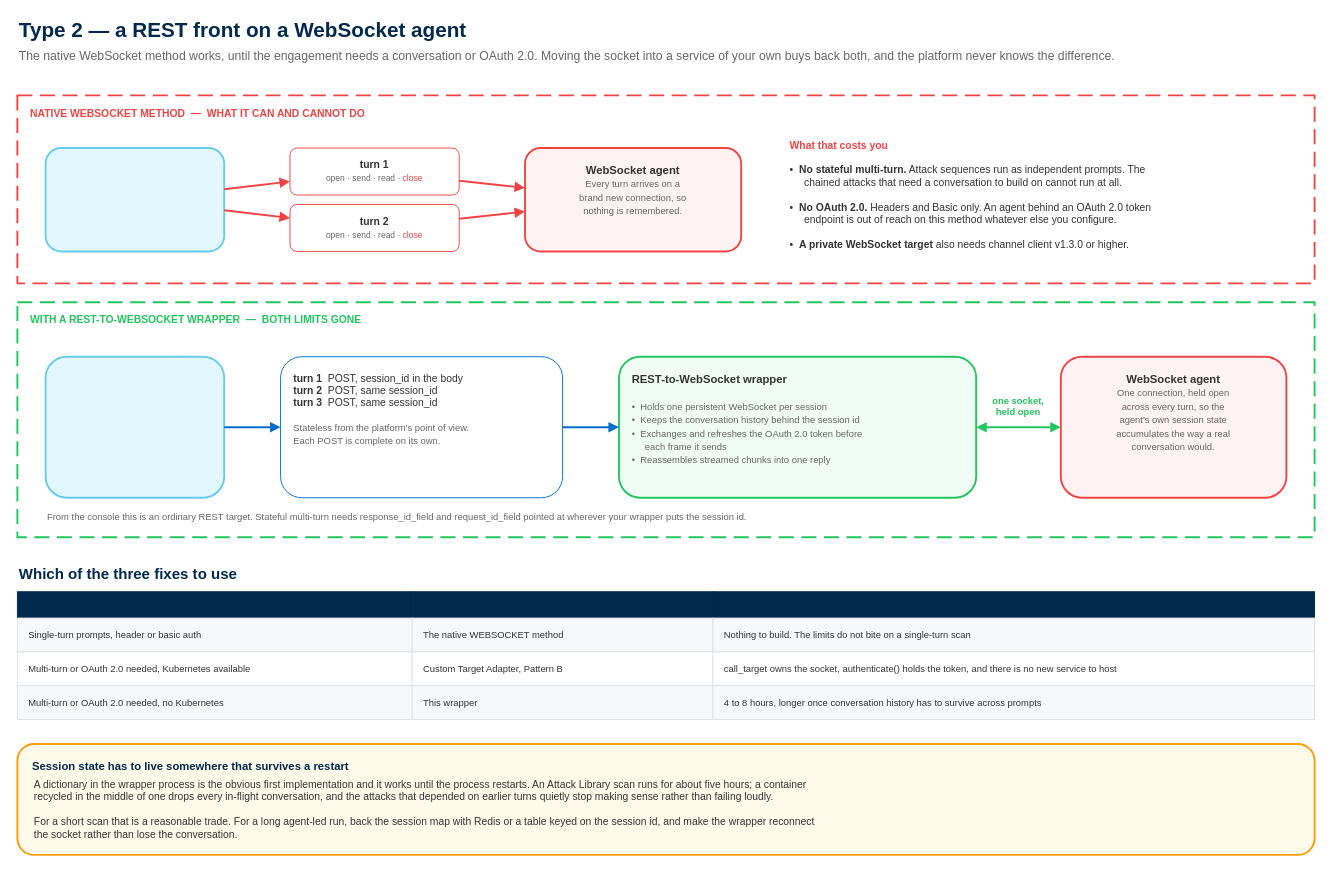
Image size: 1331x871. Some labels were removed from this diagram. The shapes that lost their labels are listed below. From the top down, each one's centre as x and y in pixels, then its label:
At [134,199]: "AI Red Teaming".
At [134,426]: "AI Red Teaming Target configured as REST API, stateful multi-turn enabled".
At [214,604]: "Situation".
At [562,604]: "Use".
At [1013,604]: "Why".
